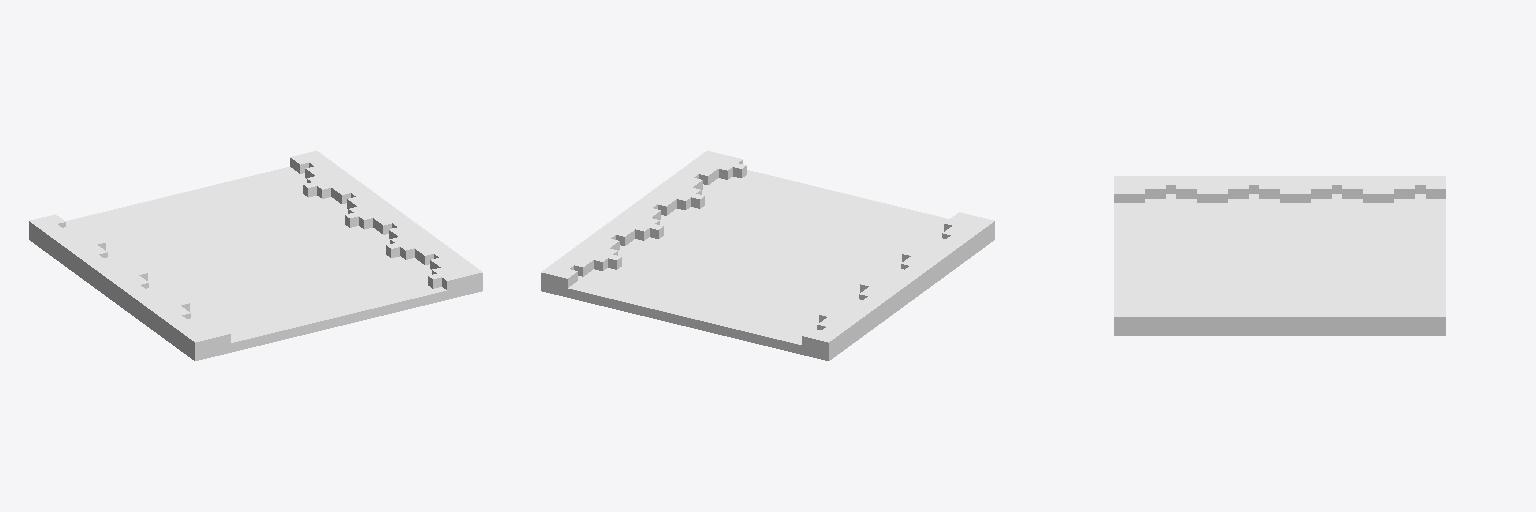
The model's file is Path-1-Path.obj.
The picture shows the model from 3 angles: view 1: azimuth 30°, elevation 25°; view 2: azimuth 150°, elevation 25°; view 3: azimuth 270°, elevation 25°; orthographic projection.
Parts seen in each view (by area): view 1: Path; view 2: Path; view 3: Path.
Part boxes in pixels (left/top/right/bottom): Path: left=29, top=151, right=482, bottom=360; Path: left=541, top=151, right=994, bottom=360; Path: left=1114, top=176, right=1445, bottom=335.
Bounding box in the file's own units: 3.2 × 0.2 × 3.2.